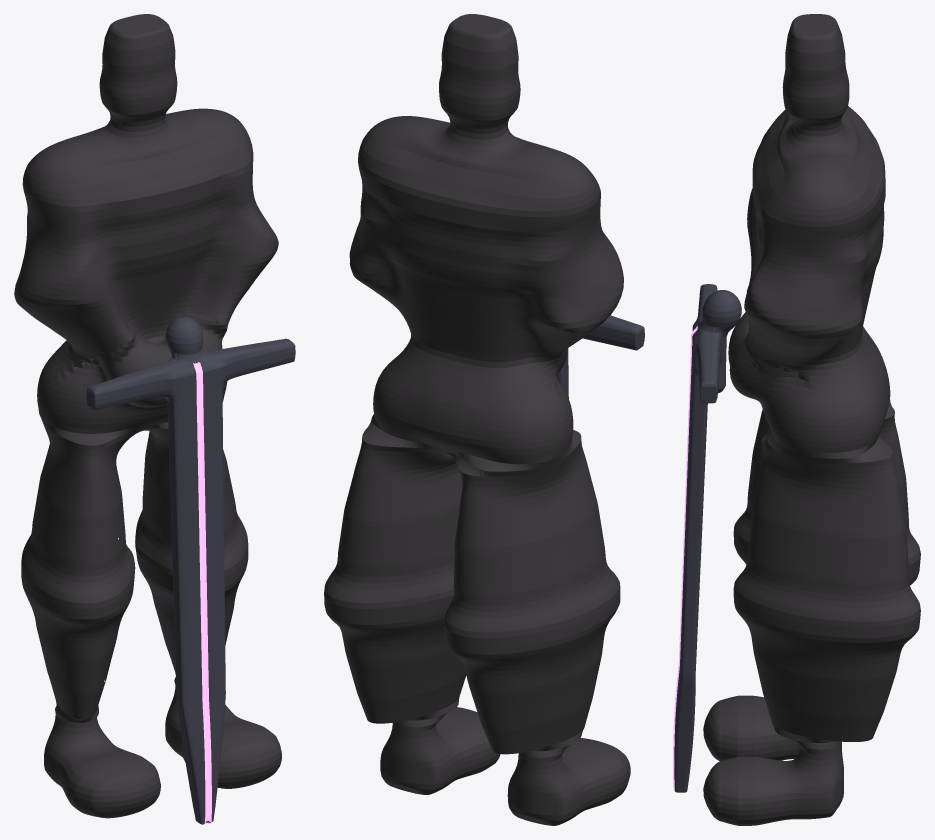
File: knight_closed_vascular.glb
3 renders of one model, left to right at view 1: azimuth 30°, elevation 25°; view 2: azimuth 150°, elevation 25°; view 3: azimuth 270°, elevation 25°, orthographic. The views are drawn at different scales.
Parts seen in each view (by area): view 1: body, sword, sword__fuller_rune; view 2: body, sword; view 3: body, sword, sword__fuller_rune.
Boxes of the visible parts, bbox=[...] form: body: bbox=[14, 14, 281, 818]; sword: bbox=[86, 316, 295, 824]; sword__fuller_rune: bbox=[193, 362, 211, 824]; body: bbox=[324, 14, 630, 825]; sword: bbox=[556, 315, 644, 398]; body: bbox=[703, 14, 920, 825]; sword: bbox=[674, 284, 741, 792]; sword__fuller_rune: bbox=[673, 326, 697, 788].
Size of the model in its own units: 0.8296 by 2.43 by 0.7114.
